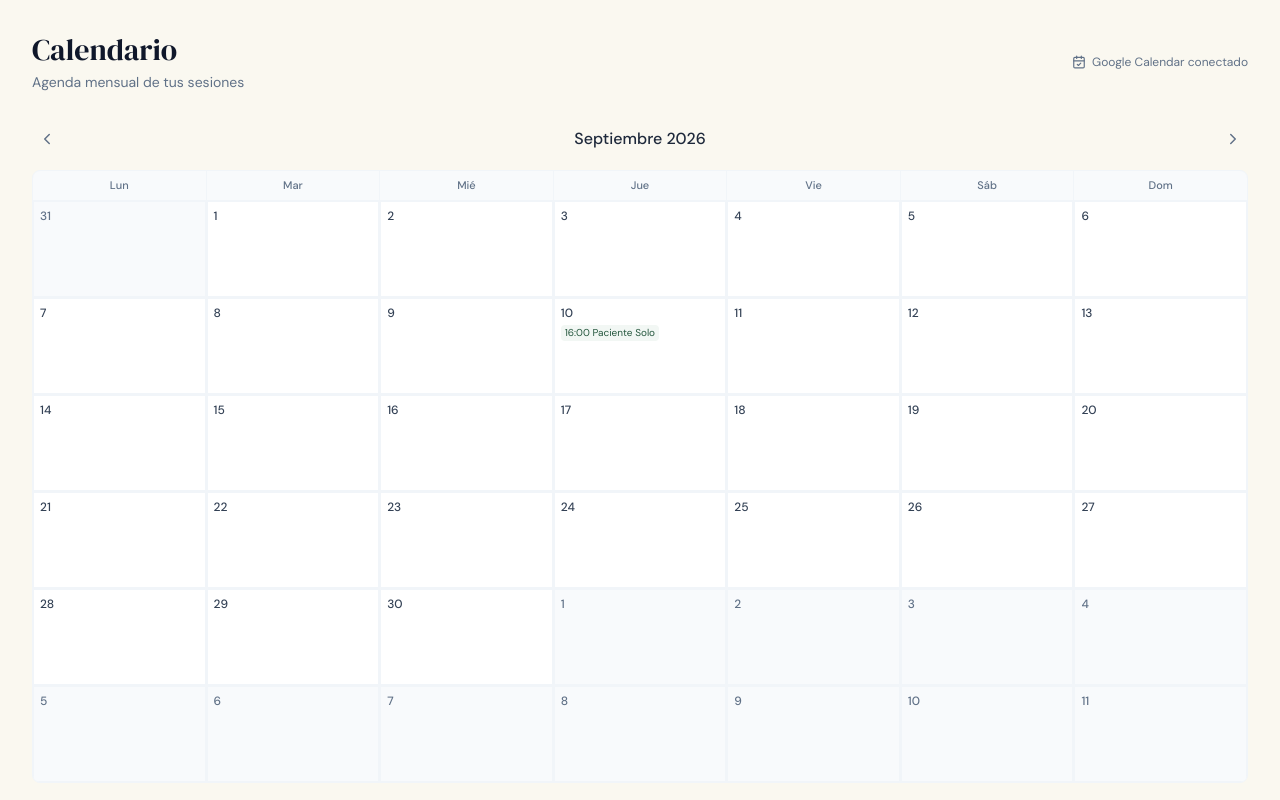
Test case: CalendarPage › el modal de detalle de día es de solo lectura: lista sesiones sin controles de editar ni cancelar
Click the button with test id "day-cell-2026-09-10". click: (640,346)
box: [554,298,726,394]
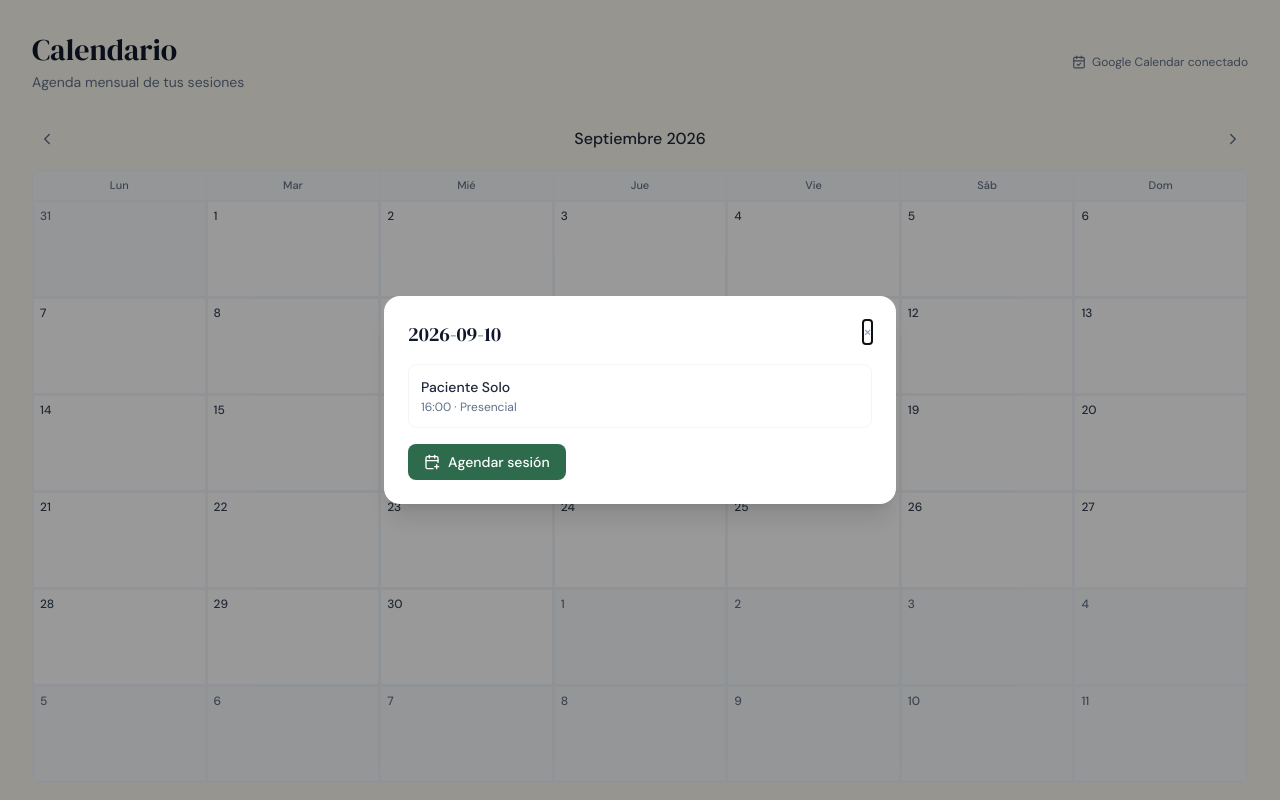
Now the dialog is shown, box [384,296,896,504]
Now the text "Paciente Solo" is shown, box [421,378,510,396]
Now the button "Agendar sesión" is shown, box [408,444,566,480]
